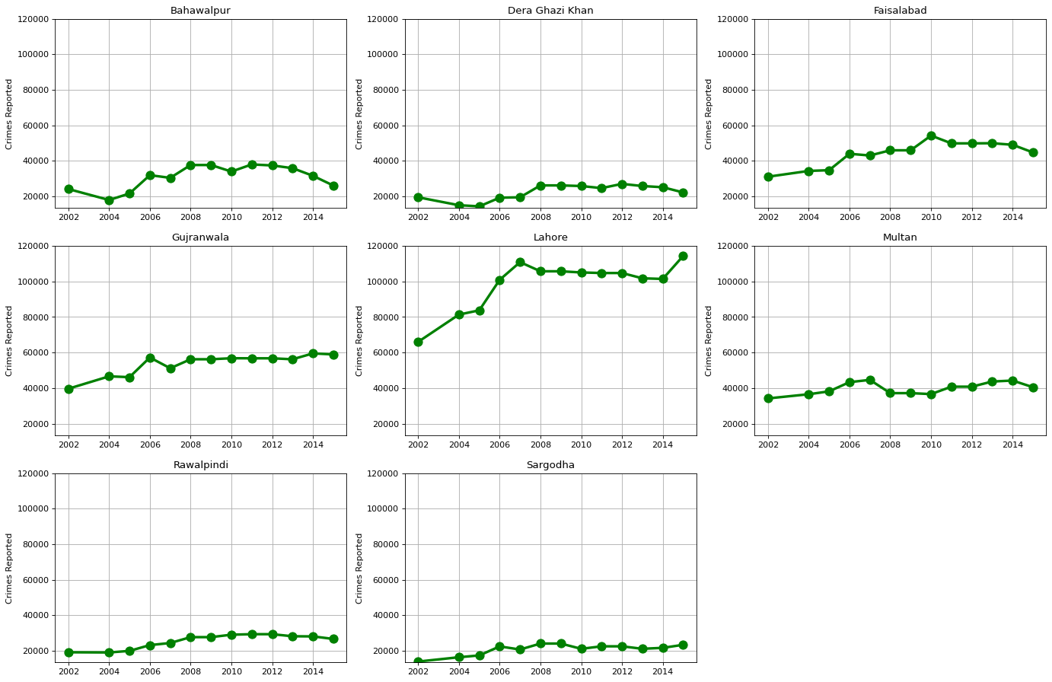

The page's visual inventory and layout, read from the dashboard file:
{"tool":"tableau","page":{"name":"Dashboard 1","canvas":[1624,868],"ordinal":0},"visuals":[{"type":"worksheet","box":[0,0,1624,868]},{"type":"worksheet","param":"horz","box":[8,8,1347,852]},{"type":"worksheet","box":[8,8,1347,852]},{"type":"worksheet","title":"Sheet 1","mark":"Automatic","rows":["Crime No"],"cols":["Year"],"box":[8,8,1347,334.4]},{"type":"worksheet","param":"vert","box":[1355,8,261,852]},{"type":"worksheet","title":"Sheet 1","mark":"Automatic","rows":["Crime No"],"cols":["Year"],"param":"[federated.1cmjsau10frqyy12kbpix1j6jsm1].[none:Year:qk]","box":[1355,8,261,73]},{"type":"worksheet","title":"Sheet 4","mark":"Automatic","rows":["Division","Crime No"],"cols":["Crime Type"],"param":"[federated.1cmjsau10frqyy12kbpix1j6jsm1].[none:Crime Type:nk]","box":[1355,81,261,381]},{"type":"worksheet","title":"Sheet 3","mark":"Automatic","rows":["Crime No"],"cols":["District","Year"],"box":[8,342.4,673.4,517.6]},{"type":"worksheet","title":"Sheet 4","mark":"Automatic","rows":["Division","Crime No"],"cols":["Crime Type"],"box":[681.4,342.4,673.6,517.6]}]}

Visuals, with their boxes on the page's 1624x868 design canvas (x1, y1, x2, y2). These are canvas units, not pixel positions in the 1052x682 screenshot, which may show the page scaled, cropped or inside an application window:
worksheet: detection(0, 0, 1624, 868)
worksheet: detection(8, 8, 1355, 860)
worksheet: detection(8, 8, 1355, 860)
"Sheet 1" worksheet: detection(8, 8, 1355, 342)
worksheet: detection(1355, 8, 1616, 860)
"Sheet 1" worksheet: detection(1355, 8, 1616, 81)
"Sheet 4" worksheet: detection(1355, 81, 1616, 462)
"Sheet 3" worksheet: detection(8, 342, 681, 860)
"Sheet 4" worksheet: detection(681, 342, 1355, 860)
